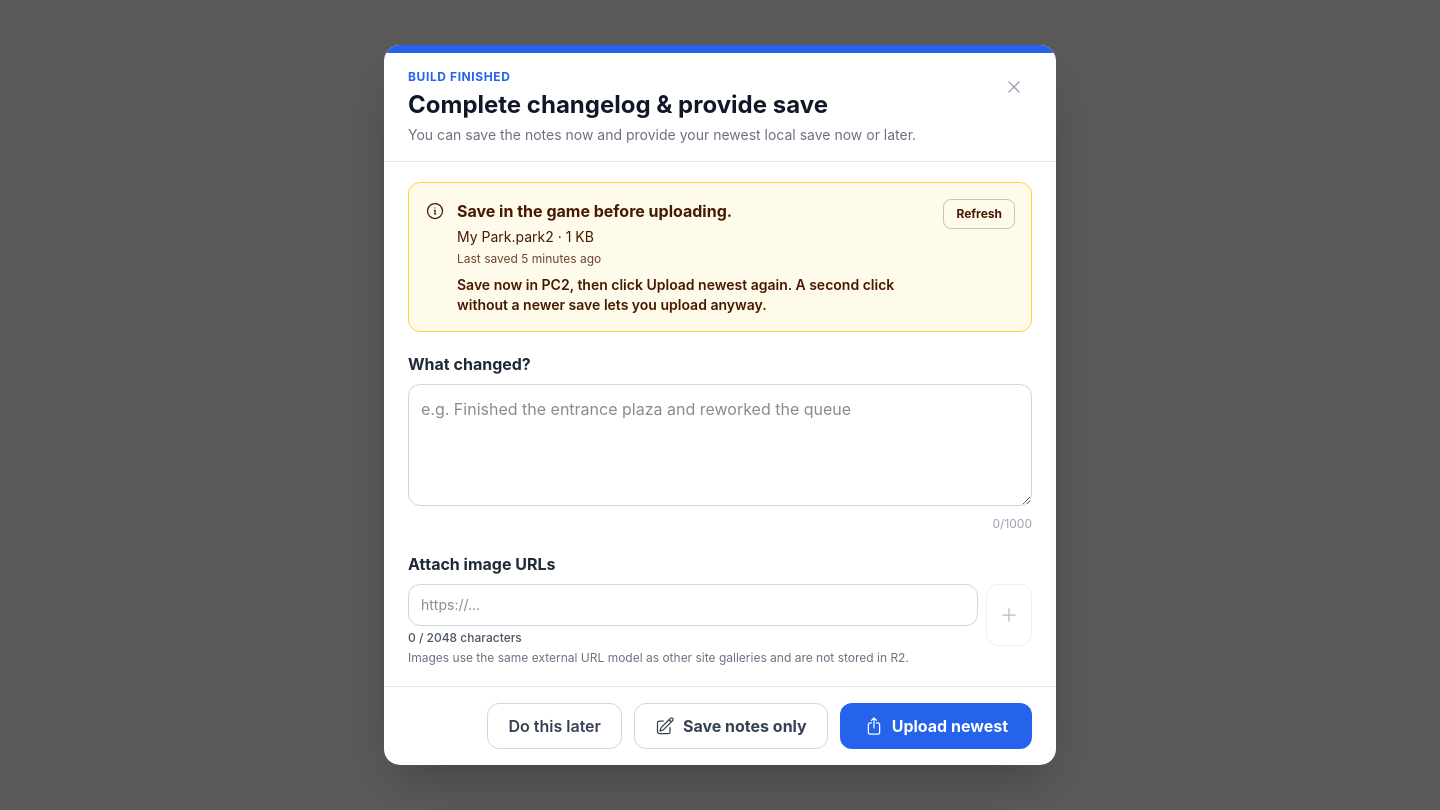
CollaborationChangelogModal › warns before uploading a save older than two minutes
Expected: the text "Save in the game before uploading." is shown, [457,201,732,221]
Type "Finished the entrance plaza." into the text box labelled "What changed?" at (720, 445), box [408,384,1032,506]
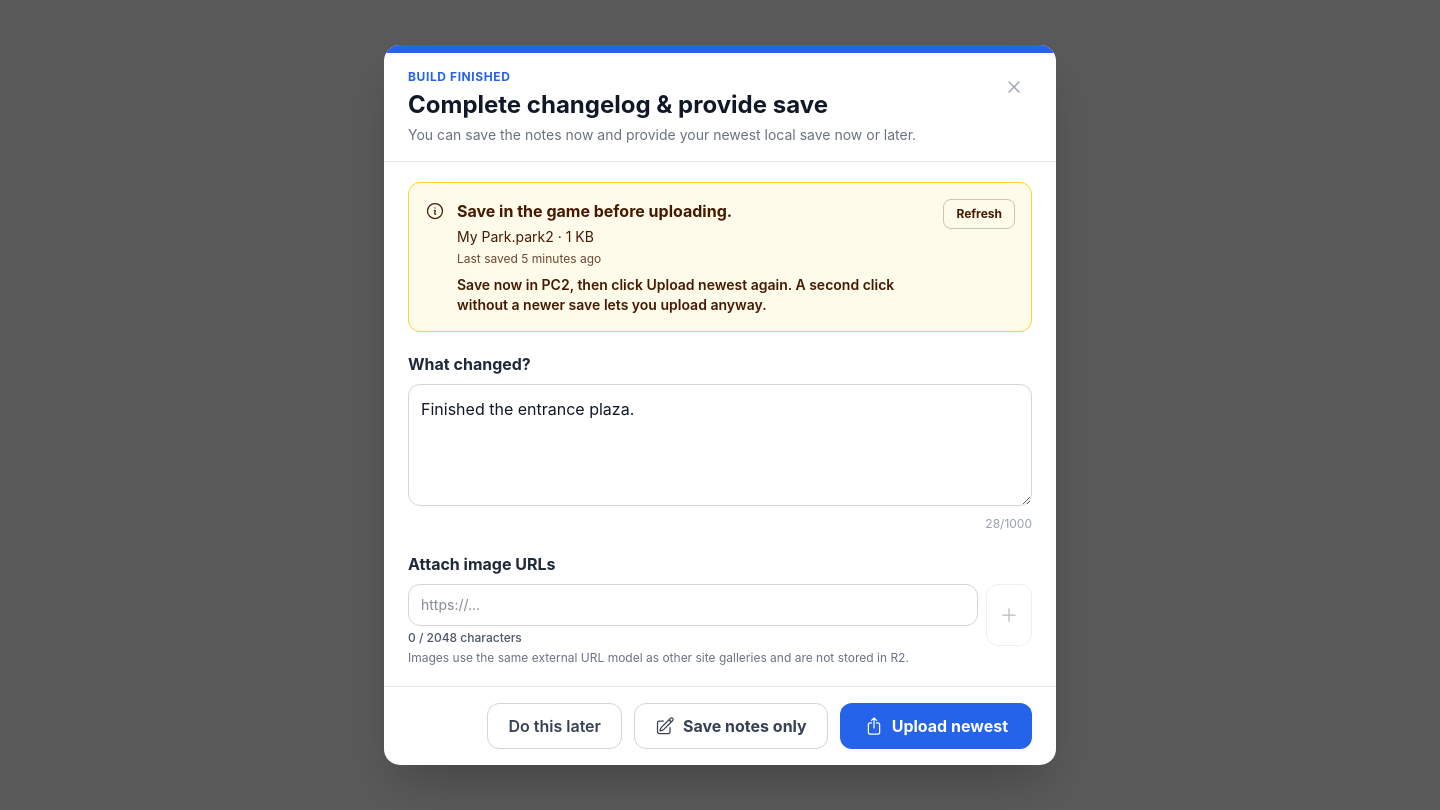
Click the button "Upload newest" at (936, 726), box [840,703,1032,749]
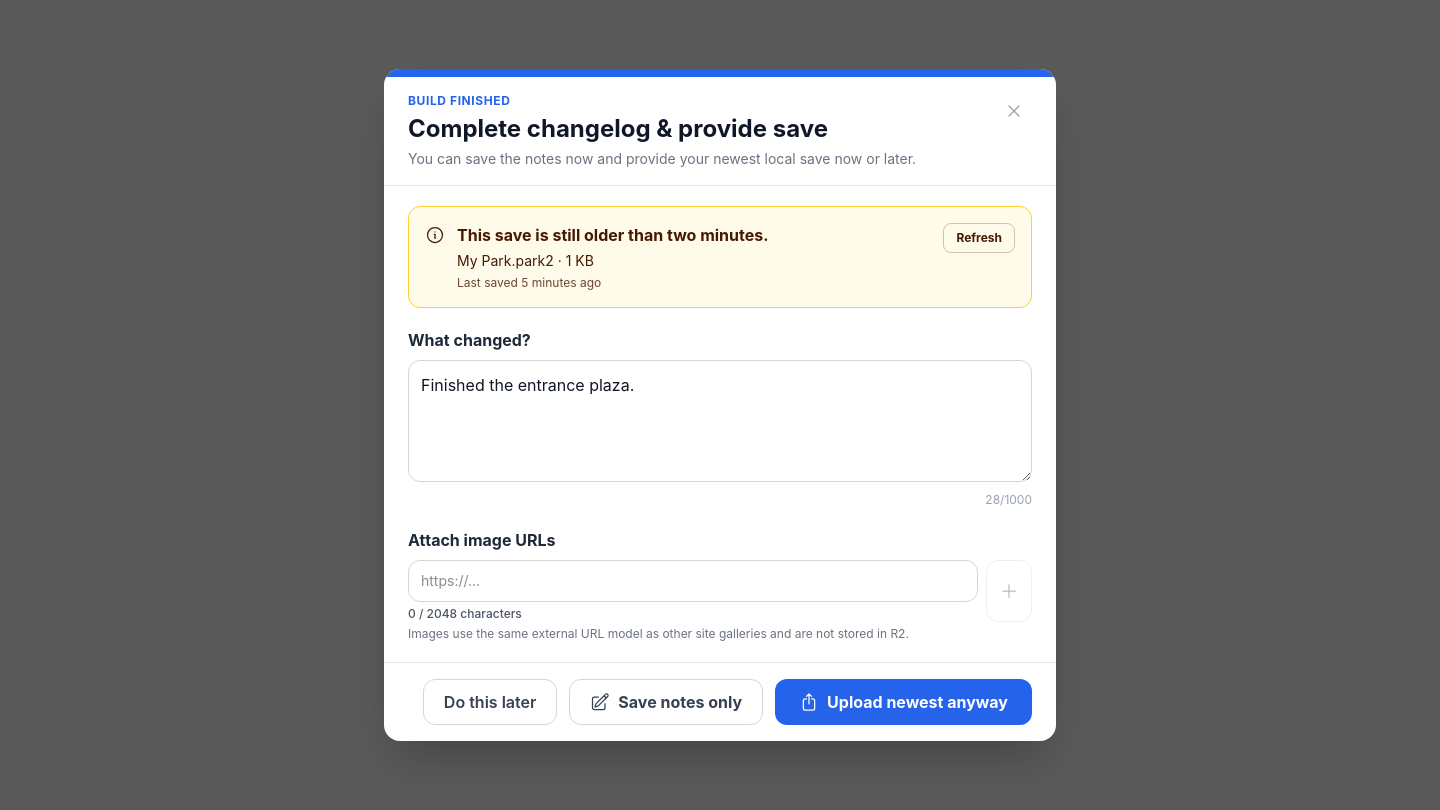
Now the button "Upload newest anyway" is shown, box [775,679,1032,725]
